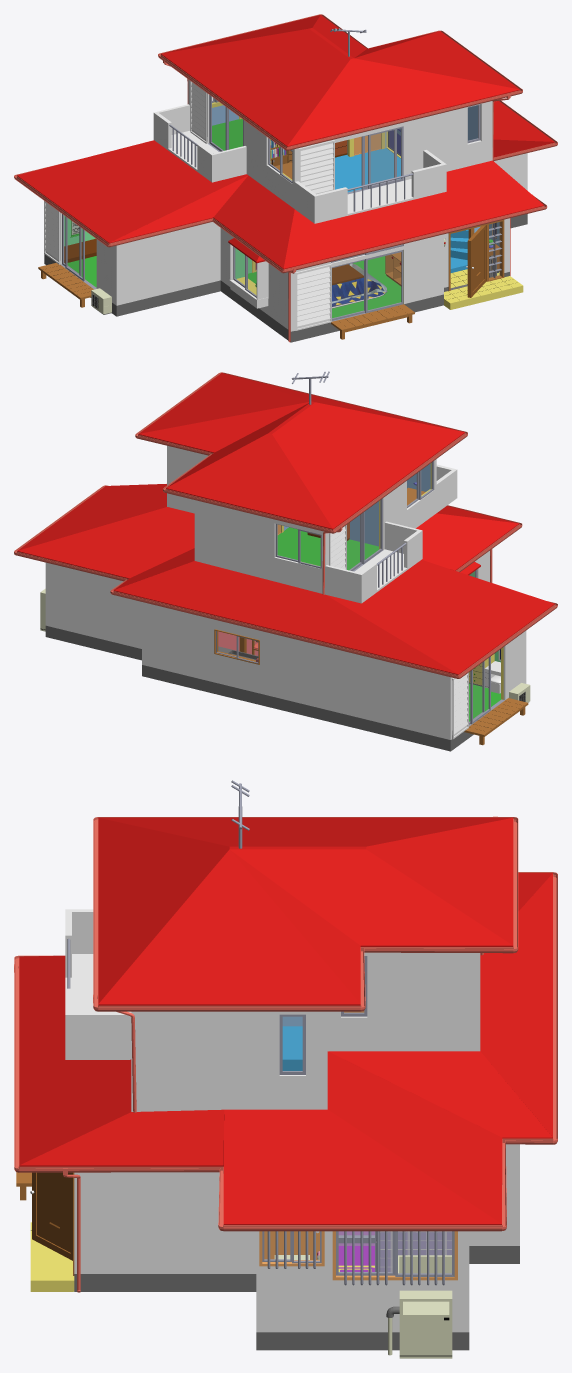
The model's file is crayon_shin-chan_nohara_house.glb.
The picture shows the model from 3 angles, top to bottom: view 1: azimuth 30°, elevation 25°; view 2: azimuth 150°, elevation 25°; view 3: azimuth 270°, elevation 25°; orthographic projection. The views are drawn at different scales.
Visible parts, largest first — view 1: Object_29, Object_22, Object_25, Object_33, Object_23, Object_35, Object_38, Object_42, Object_51, Object_53, Object_54, Object_39 (+5 smaller); view 2: Object_29, Object_22, Object_23, Object_33, Object_42, Object_35, Object_51, Object_25, Object_38, Object_47, Object_54, Object_24 (+1 smaller); view 3: Object_29, Object_22, Object_33, Object_24, Object_42, Object_43, Object_36, Object_39, Object_35, Object_18, Object_54, Object_20 (+2 smaller).
Part boxes in pixels (x1=…): Object_29: x1=17, y1=15, x2=554, y2=269; Object_22: x1=46, y1=101, x2=527, y2=331; Object_25: x1=68, y1=97, x2=500, y2=317; Object_33: x1=14, y1=14, x2=557, y2=342; Object_23: x1=44, y1=79, x2=334, y2=264; Object_35: x1=61, y1=28, x2=501, y2=321; Object_38: x1=38, y1=150, x2=504, y2=339; Object_42: x1=44, y1=214, x2=527, y2=342; Object_51: x1=67, y1=119, x2=493, y2=318; Object_53: x1=271, y1=140, x2=468, y2=272; Object_54: x1=212, y1=102, x2=523, y2=309; Object_39: x1=270, y1=146, x2=499, y2=297; Object_29: x1=17, y1=373, x2=554, y2=674; Object_22: x1=45, y1=445, x2=526, y2=739; Object_23: x1=202, y1=481, x2=500, y2=739; Object_33: x1=14, y1=372, x2=557, y2=678; Object_42: x1=45, y1=625, x2=525, y2=751; Object_35: x1=216, y1=371, x2=504, y2=726; Object_51: x1=277, y1=527, x2=501, y2=721; Object_25: x1=347, y1=500, x2=482, y2=718; Object_38: x1=214, y1=487, x2=528, y2=745; Object_47: x1=284, y1=463, x2=430, y2=546; Object_54: x1=281, y1=463, x2=503, y2=699; Object_24: x1=40, y1=588, x2=530, y2=702; Object_29: x1=19, y1=817, x2=552, y2=1224; Object_22: x1=30, y1=909, x2=519, y2=1332; Object_33: x1=14, y1=816, x2=557, y2=1292; Object_24: x1=274, y1=1255, x2=452, y2=1358; Object_42: x1=256, y1=1246, x2=519, y2=1350; Object_43: x1=74, y1=1274, x2=256, y2=1291; Object_36: x1=67, y1=938, x2=444, y2=1285; Object_39: x1=32, y1=1172, x2=72, y2=1260; Object_35: x1=231, y1=780, x2=454, y2=1276; Object_18: x1=259, y1=1011, x2=457, y2=1280; Object_54: x1=30, y1=1222, x2=374, y2=1291; Object_20: x1=380, y1=1231, x2=451, y2=1271.
Size of what is drawn, in the model's own units: 15.94 by 8.59 by 10.32.
Materials: 39 (8 with a texture image).
